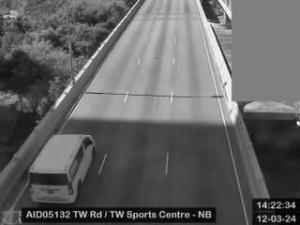vehicle: (29, 134, 97, 206)
